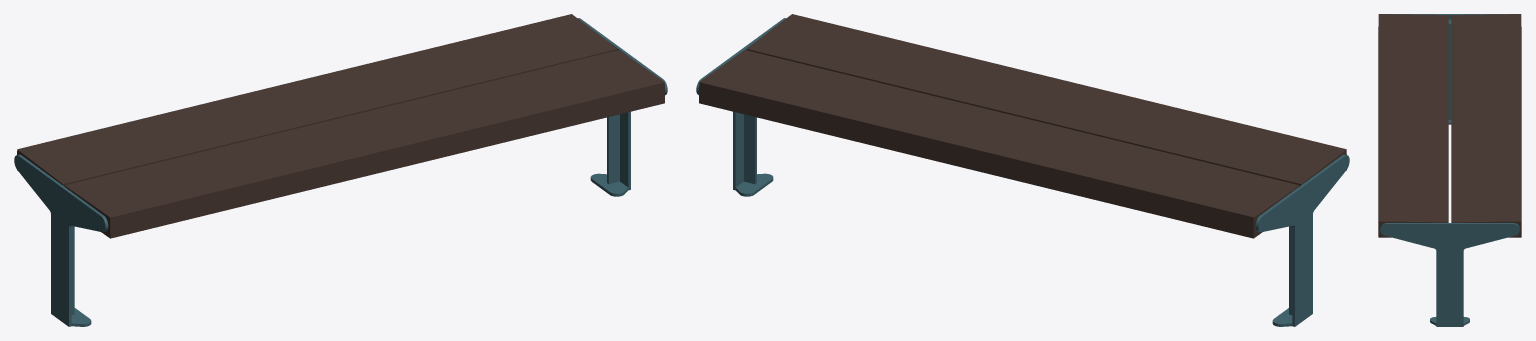
The model's file is G8_std.glb.
3 renders of one model, left to right at view 1: azimuth 30°, elevation 25°; view 2: azimuth 150°, elevation 25°; view 3: azimuth 270°, elevation 25°, orthographic. The views are drawn at different scales.
Parts seen in each view (by area): view 1: G8_std; view 2: G8_std; view 3: G8_std.
Boxes of the visible parts, bbox=[...] form: G8_std: bbox=[14, 14, 667, 326]; G8_std: bbox=[696, 14, 1349, 326]; G8_std: bbox=[1378, 14, 1521, 326].
Size of the model in its own units: 1.99 by 0.4599 by 0.5717.
